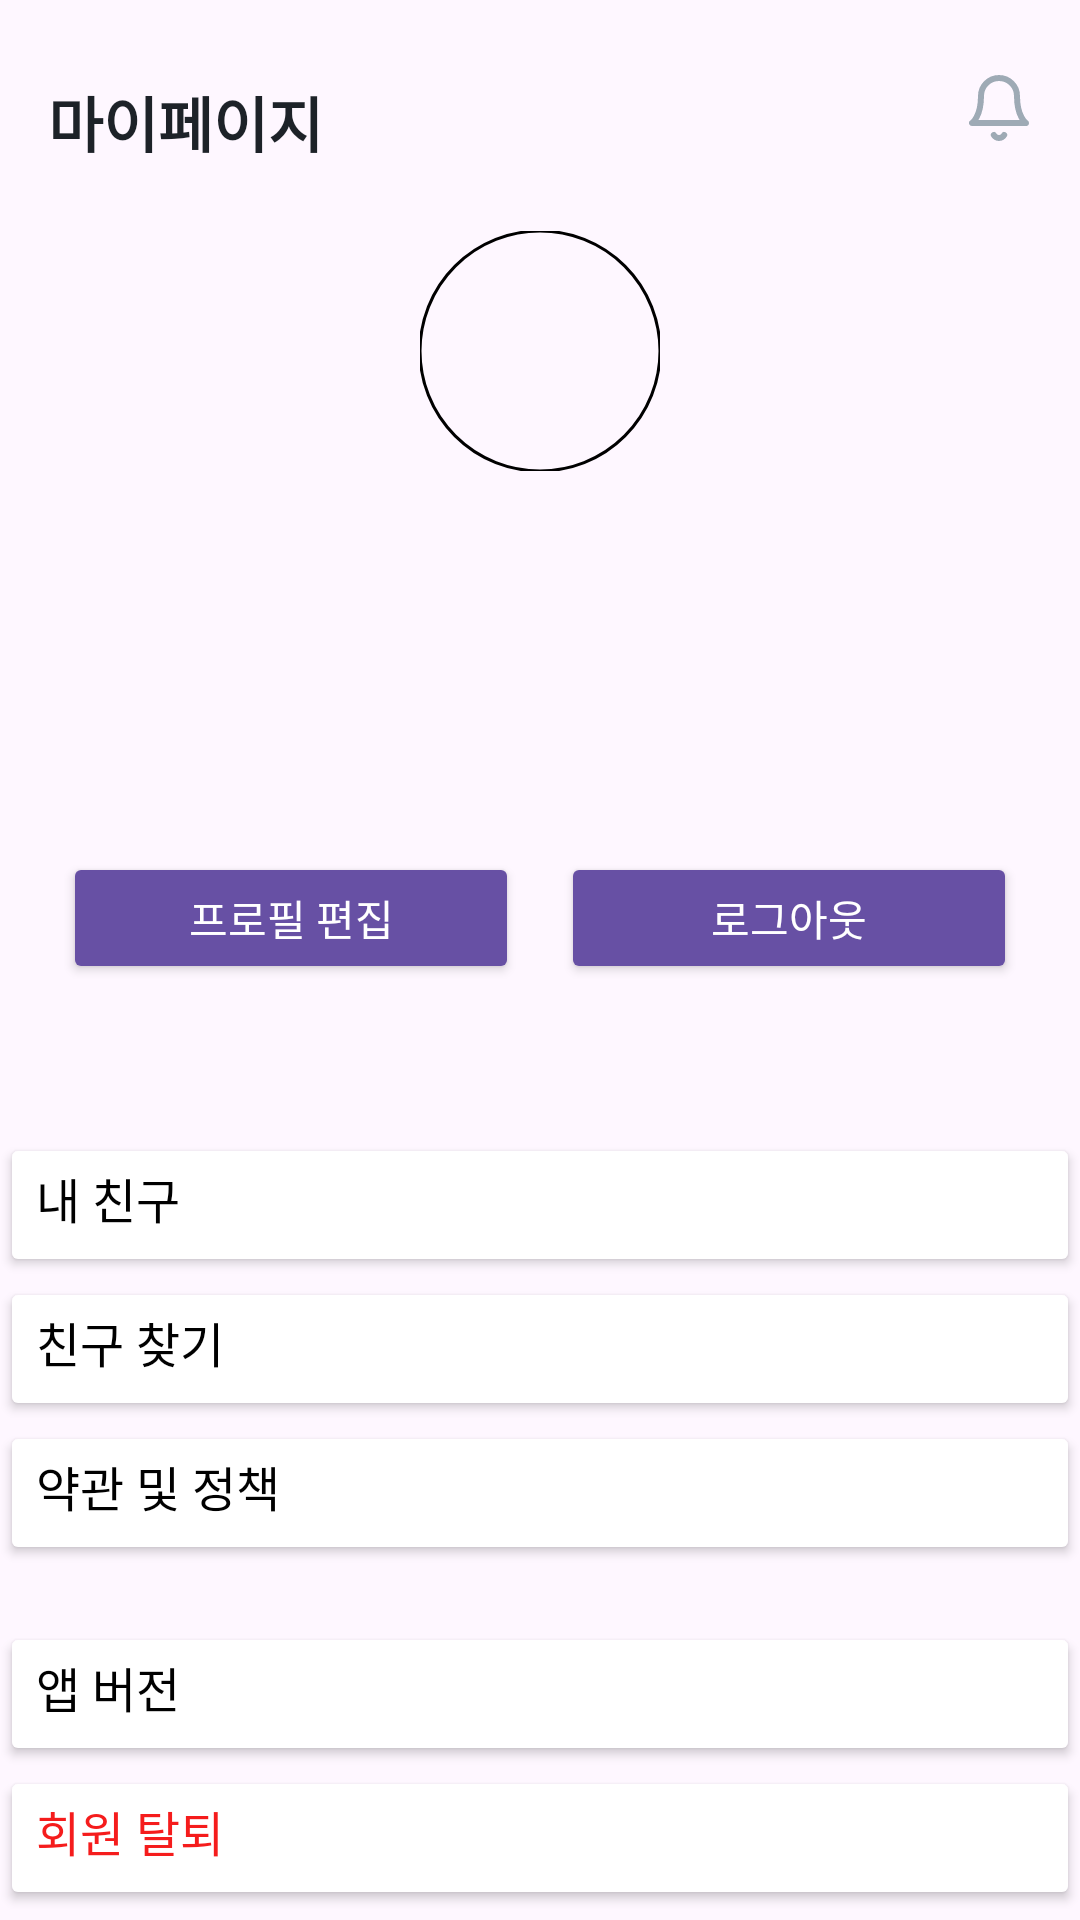

Locate icon controls on the screen. Image size 1080 x 1920, boxes as (x1, y1, x2, y2).
alarm: (969, 75, 1029, 141)
